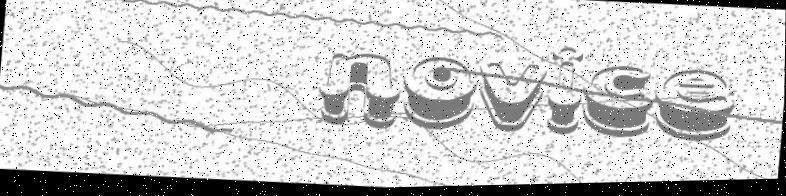c: (577, 61, 662, 147)
e: (650, 61, 748, 151)
i: (544, 43, 589, 139)
n: (310, 49, 408, 138)
o: (393, 51, 480, 140)
v: (471, 52, 551, 146)
